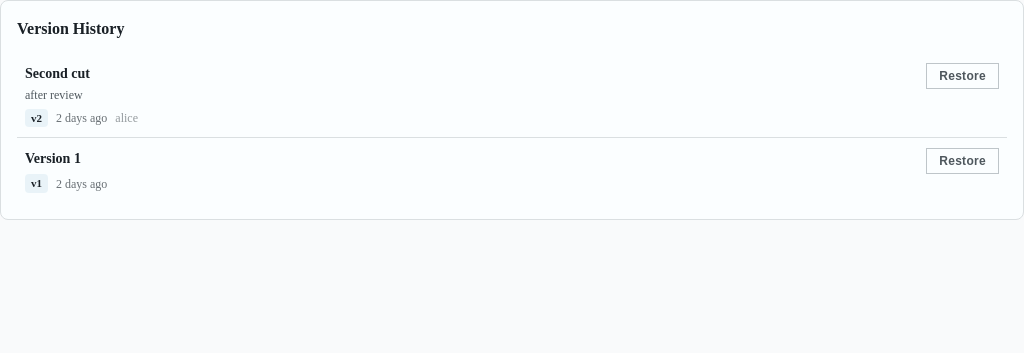
Test: VersionHistory › reports whether a version is expanded, and does not nest Restore inside the row control
The image size is (1024, 353).
Check: the text "Second cut" is shown, box [25,63,90,84]
Step 1. Click the button "Second cut after review v2 2 days ago alice" → [57, 74], box [25,63,916,127]
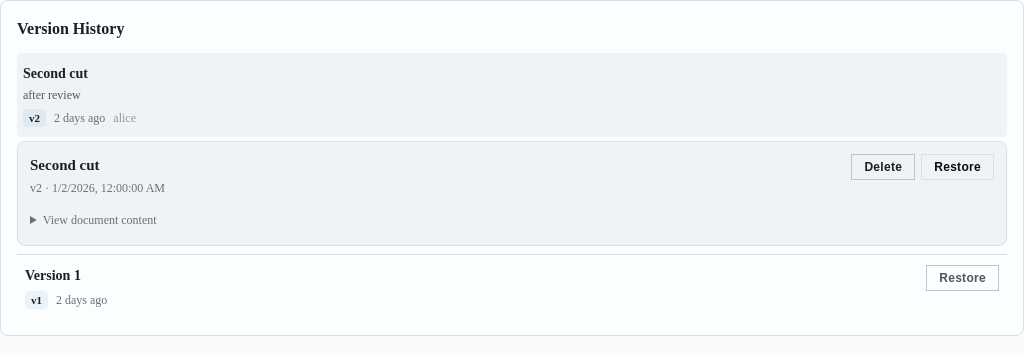
Check: the button "Second cut after review v2 2 days ago alice" is expanded, box [23,63,999,127]
